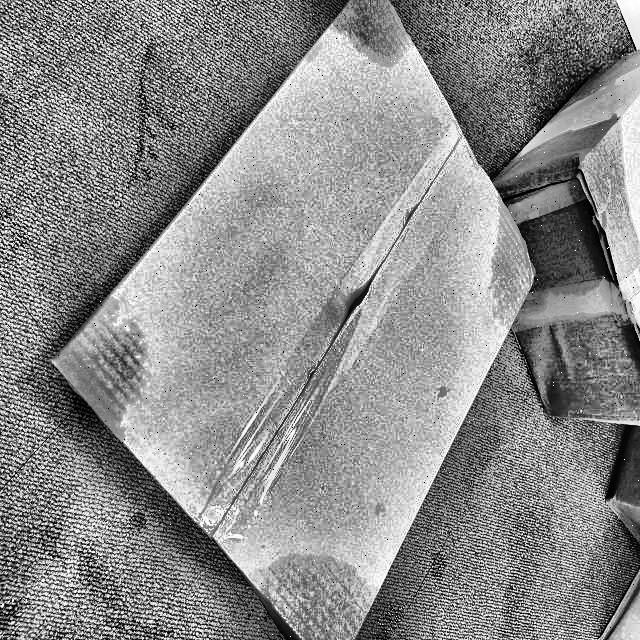box: (51, 1, 541, 640)
wet: (57, 295, 149, 439), (251, 553, 383, 638), (331, 0, 409, 60), (489, 227, 535, 328)
